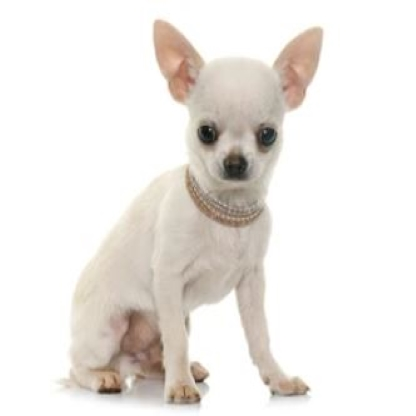chihuahua: (67, 16, 331, 406)
